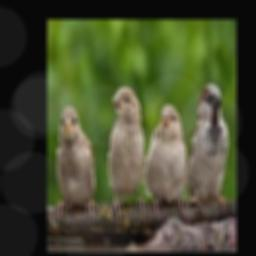Sparrow: (187, 82, 229, 212), (108, 86, 146, 222), (55, 105, 96, 222), (144, 103, 186, 212)
